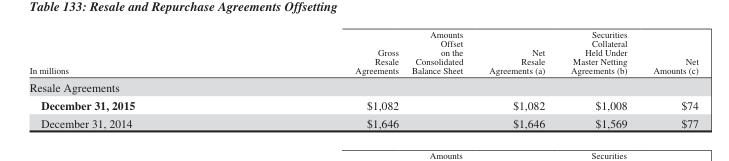table: (28, 28, 697, 130)
table column: (28, 28, 244, 130), (244, 28, 404, 130), (475, 28, 557, 130), (557, 28, 639, 130), (404, 28, 475, 130), (639, 28, 697, 130)
table column header: (28, 28, 697, 78)
table projected row header: (28, 78, 697, 96)
table row: (28, 28, 697, 78), (28, 78, 697, 96), (28, 96, 697, 114), (28, 114, 697, 130)
